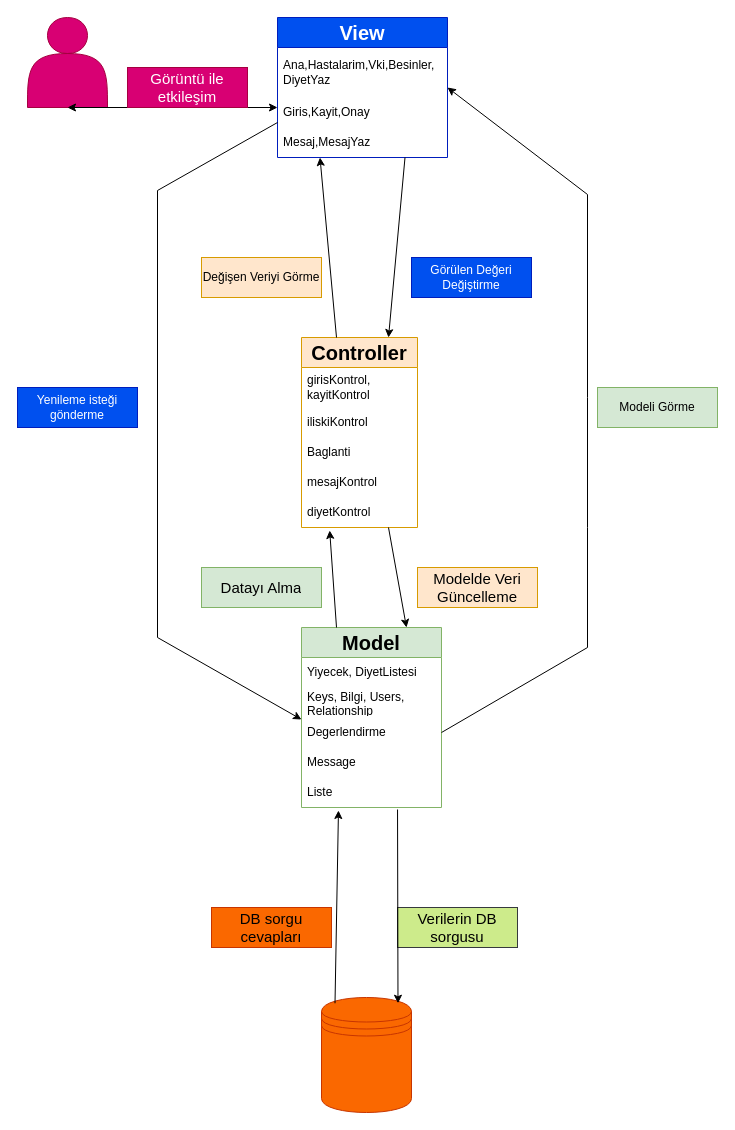
The diagram is 735 pixels wide and 1130 high, and some of its shapes have lost their labels. Each missing label, with the centre of its shape:
FireBase DB: the point at 366,1054
USER: the point at 67,62
